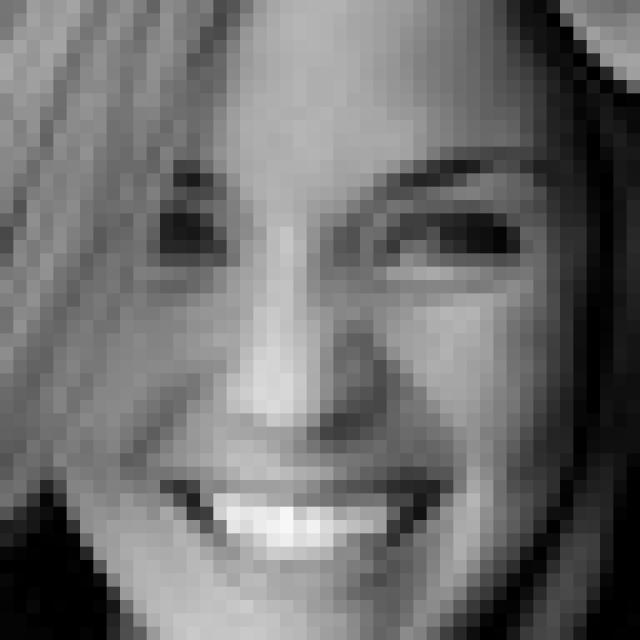happy: (121, 138, 558, 619)
